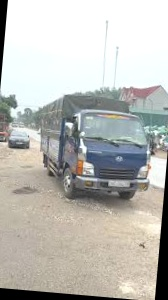Bien-so: (109, 180, 132, 188)
